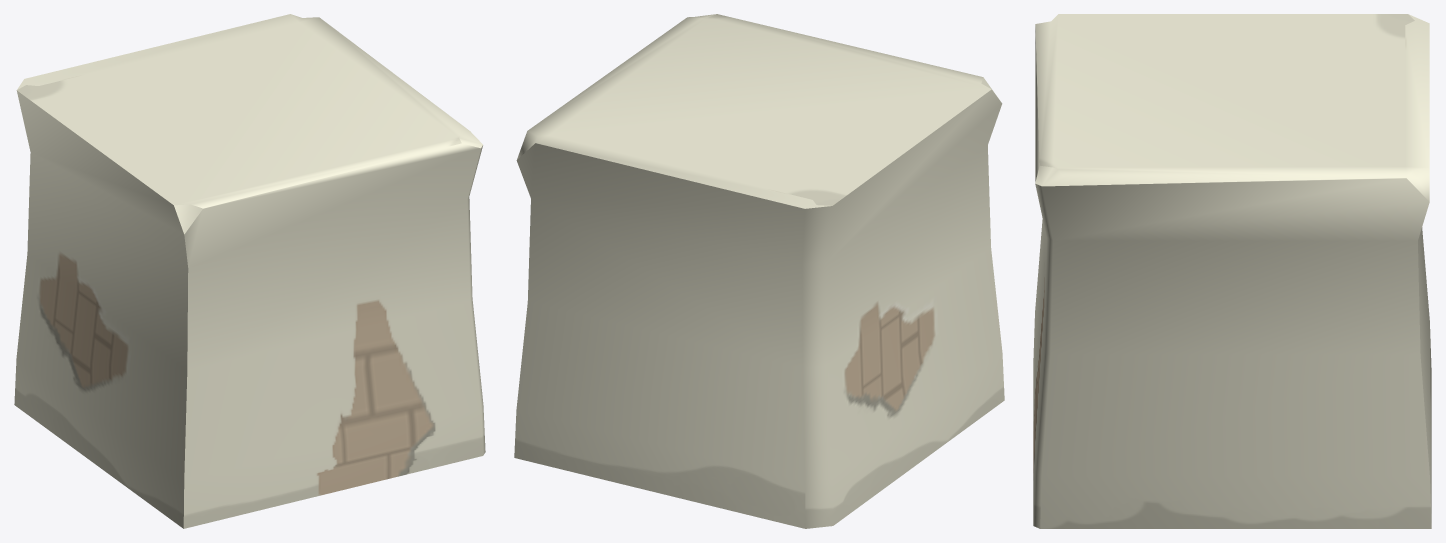
The model's file is spare.FBX.
3 renders of one model, left to right at view 1: azimuth 30°, elevation 25°; view 2: azimuth 150°, elevation 25°; view 3: azimuth 270°, elevation 25°, orthographic. The views are drawn at different scales.
Parts seen in each view (by area): view 1: Box001; view 2: Box001; view 3: Box001.
Boxes of the visible parts, x1,y1,x2,y2 form: Box001: (14,14,485,528); Box001: (514,14,1004,528); Box001: (1033,14,1431,528).
Size of the model in its own units: 272 by 268 by 276.
